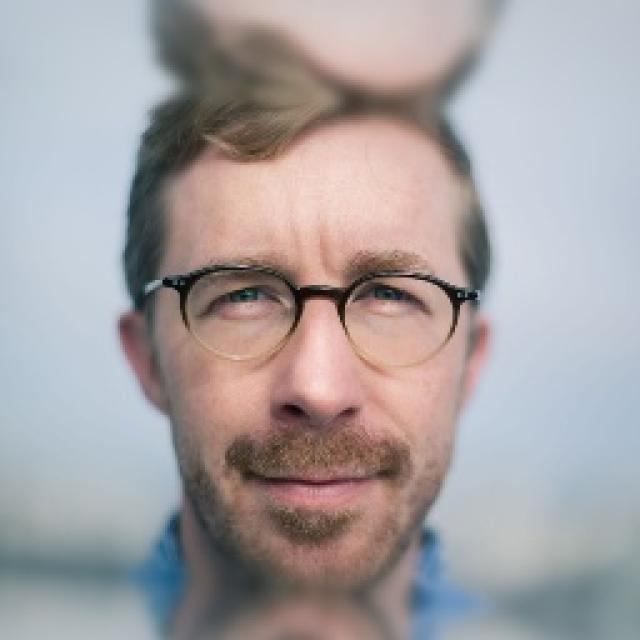glasses: (138, 255, 482, 374)
